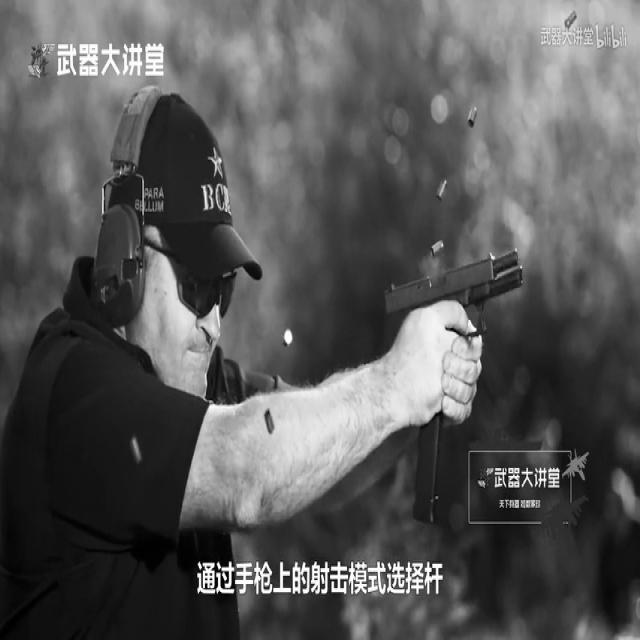Sub-machine-gun: (339, 132, 569, 575)
